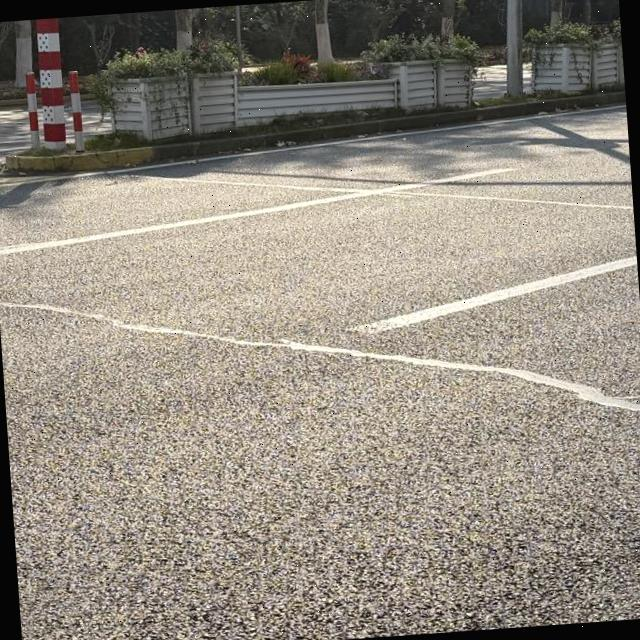curb: (3, 88, 625, 174)
